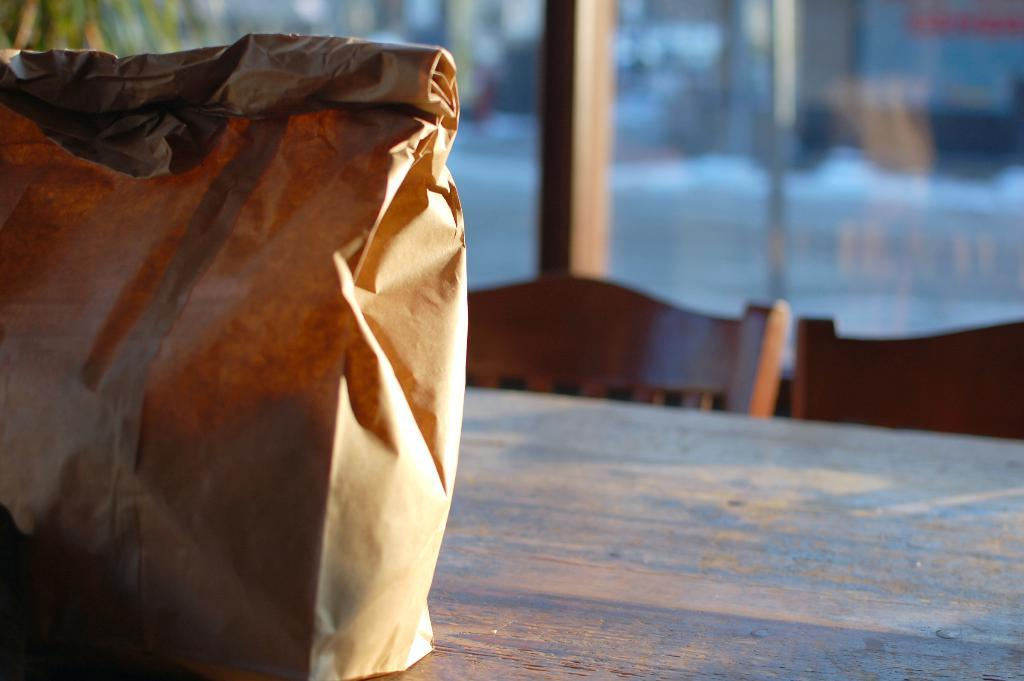Luggage-and-bags: (0, 28, 537, 648)
